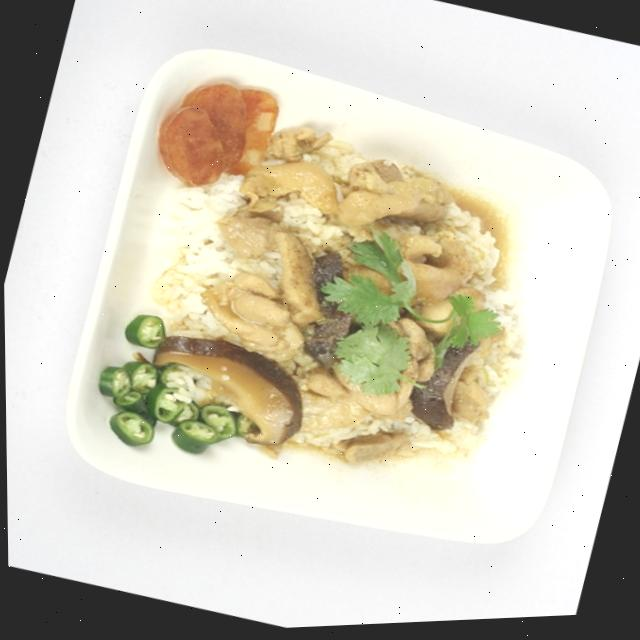米饭主食: (49, 21, 636, 585)
